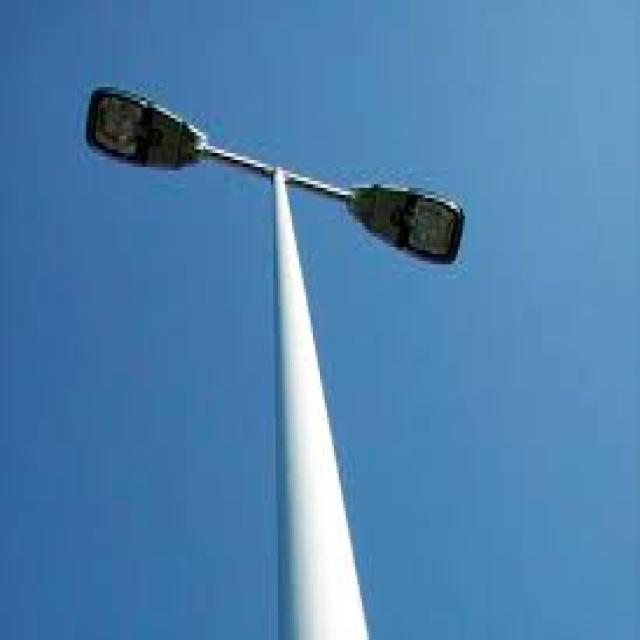Street Light: (84, 83, 465, 640)
